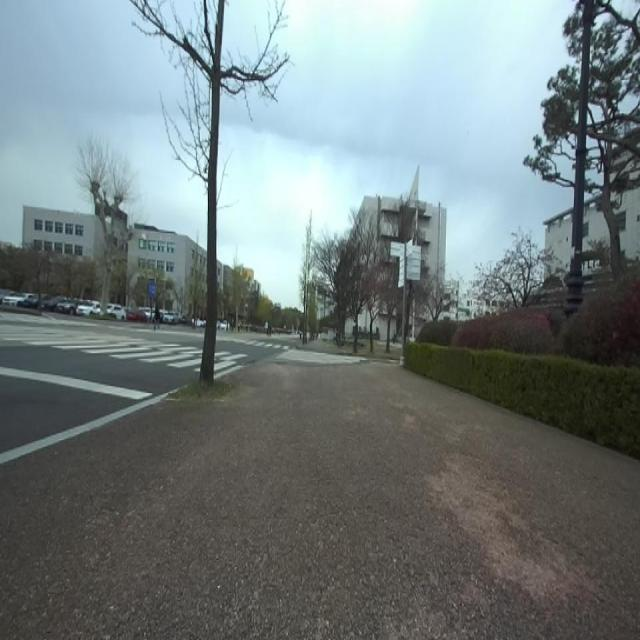sidewalk: (0, 360, 640, 639), (0, 392, 169, 464)
